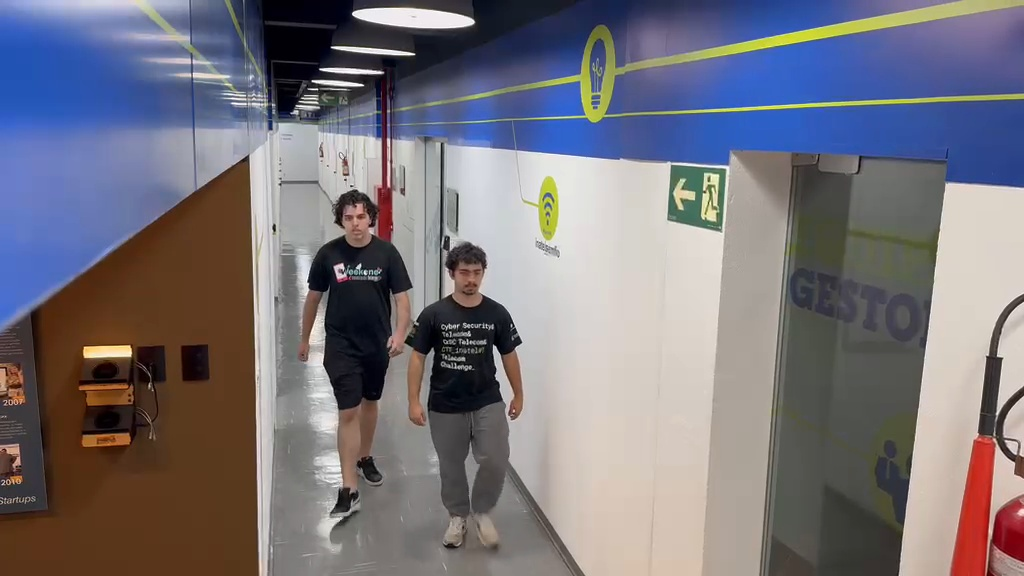person: (296, 189, 414, 514), (403, 239, 525, 550)
